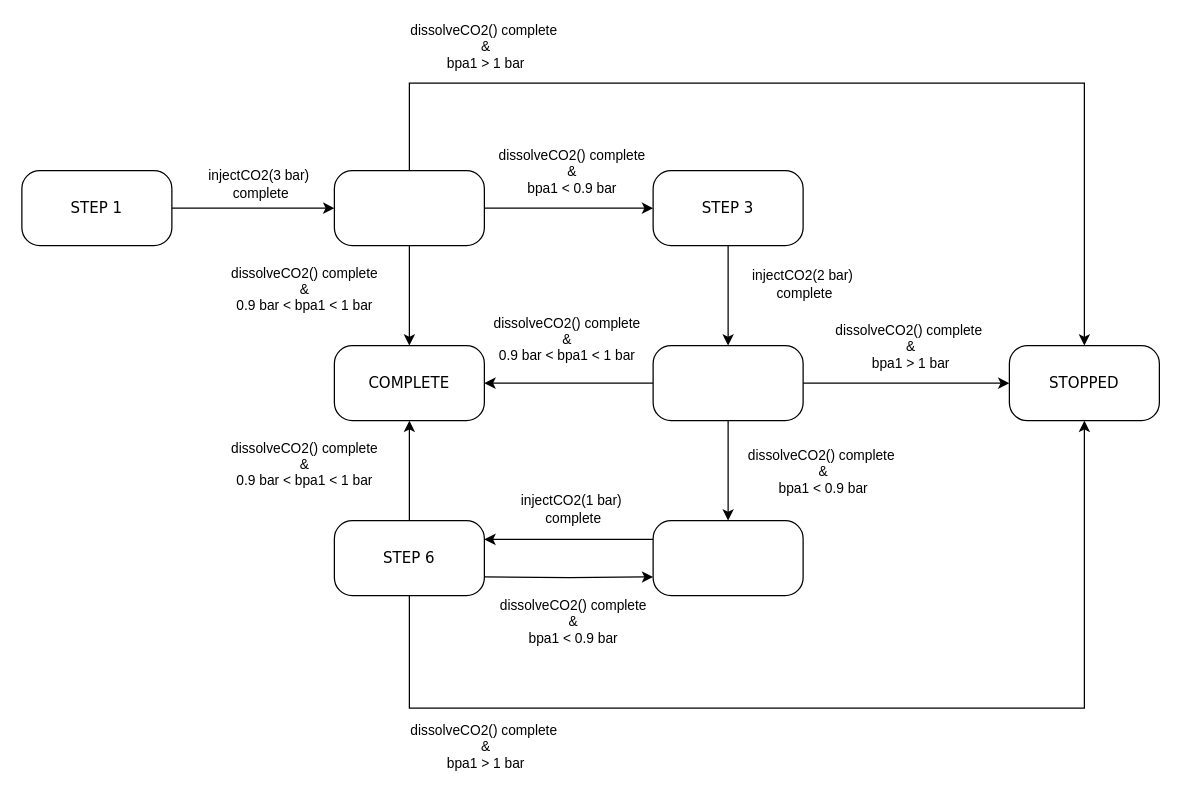
Some shapes in this 1181 by 793 pixel diagram are drawn without their labels. The centre of each missing label's shape, as x and y in pixels:
STEP 2: (408,207)
STEP 4: (727,382)
STEP 5: (727,557)
